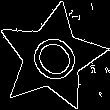O_SE: (18, 24, 86, 91)
